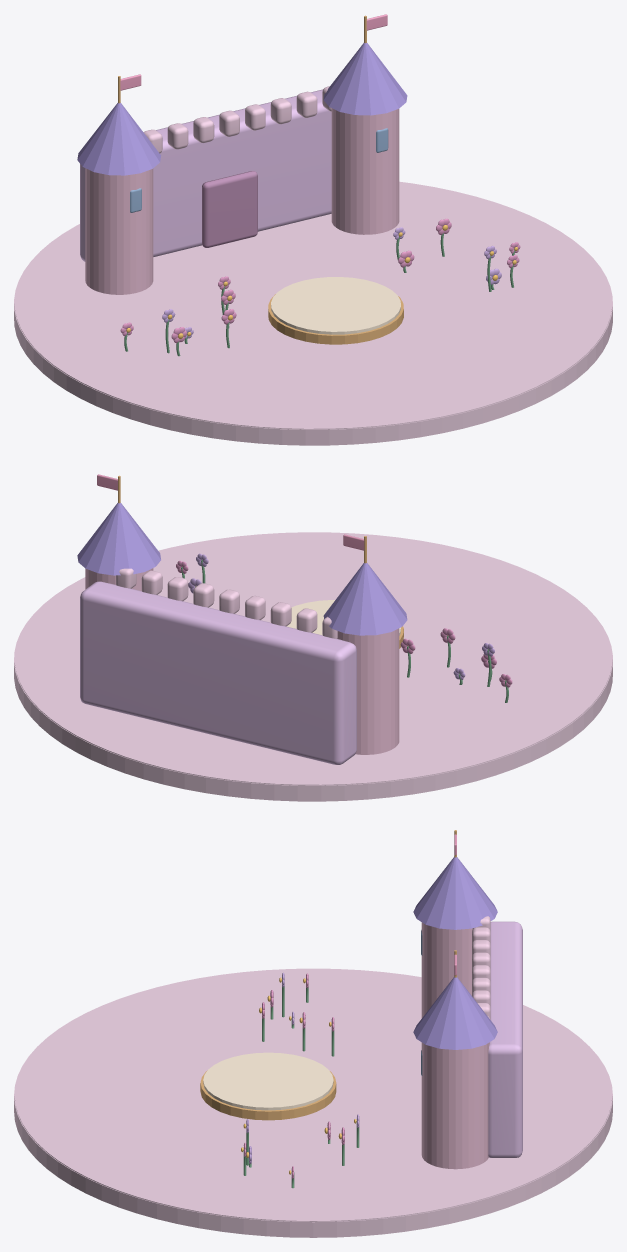
The model's file is castelo.glb.
The picture shows the model from 3 angles, top to bottom: view 1: azimuth 30°, elevation 25°; view 2: azimuth 150°, elevation 25°; view 3: azimuth 270°, elevation 25°; orthographic projection.
Visible parts, largest first — view 1: Diorama piping.005, Castle facade, Diorama base.005, Tower, Tower.001, Look pedestal.005, Spire, Castle door, Spire.001, Look pedestal trim.005; view 2: Diorama piping.005, Castle facade, Diorama base.005, Tower, Spire, Spire.001, Look pedestal.005, Tower.001, Battlement.001, Battlement.002, Battlement.005, Battlement.006 (+3 smaller); view 3: Diorama piping.005, Diorama base.005, Tower.001, Castle facade, Look pedestal.005, Spire.001, Spire, Tower, Look pedestal trim.005.
Part boxes in pixels (x1,y1,x2,y2): Diorama piping.005: [14, 181, 612, 429]; Castle facade: [80, 89, 331, 261]; Diorama base.005: [14, 258, 612, 445]; Tower: [85, 168, 153, 294]; Tower.001: [331, 108, 399, 234]; Look pedestal.005: [271, 277, 400, 334]; Spire: [77, 103, 161, 175]; Castle door: [202, 171, 257, 247]; Spire.001: [323, 43, 407, 115]; Look pedestal trim.005: [268, 294, 403, 344]; Diorama piping.005: [14, 532, 612, 785]; Castle facade: [80, 581, 356, 764]; Diorama base.005: [14, 616, 612, 801]; Tower: [337, 628, 399, 754]; Spire: [323, 563, 407, 635]; Spire.001: [77, 503, 160, 575]; Look pedestal.005: [286, 600, 400, 635]; Tower.001: [85, 568, 153, 591]; Battlement.001: [296, 608, 317, 632]; Battlement.002: [270, 602, 291, 626]; Battlement.005: [193, 583, 214, 607]; Battlement.006: [167, 577, 188, 601]; Diorama piping.005: [14, 968, 612, 1221]; Diorama base.005: [14, 1056, 612, 1237]; Tower.001: [421, 1042, 489, 1169]; Castle facade: [488, 921, 522, 1157]; Look pedestal.005: [203, 1052, 333, 1110]; Spire.001: [413, 977, 497, 1049]; Spire: [413, 857, 497, 929]; Tower: [421, 922, 472, 1018]; Look pedestal trim.005: [200, 1070, 336, 1120].
Size of what is drawn, in the model's own units: 8.64 by 3.51 by 8.64.
